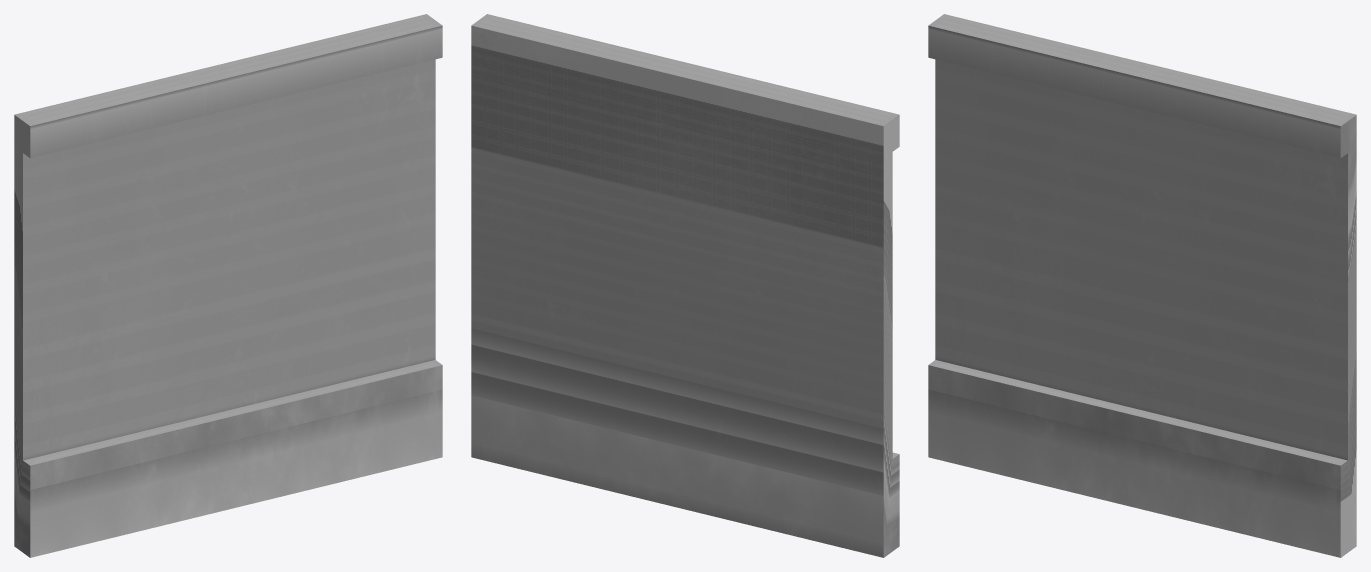
File: trimWall.fbx
The picture shows the model from 3 angles, left to right: view 1: azimuth 30°, elevation 25°; view 2: azimuth 150°, elevation 25°; view 3: azimuth 330°, elevation 25°; orthographic projection.
Parts seen in each view (by area): view 1: greyWall184; view 2: greyWall184; view 3: greyWall184.
Part boxes in pixels (<box>): greyWall184: <box>14,14,442,557</box>; greyWall184: <box>471,14,899,557</box>; greyWall184: <box>928,14,1356,557</box>.
Bounding box in the file's own units: 500 × 500 × 33.33.
